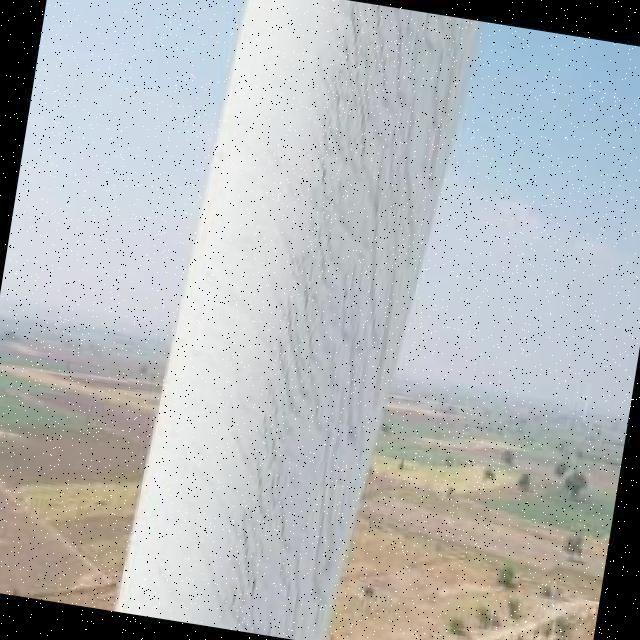Dirt: (202, 3, 474, 640)
